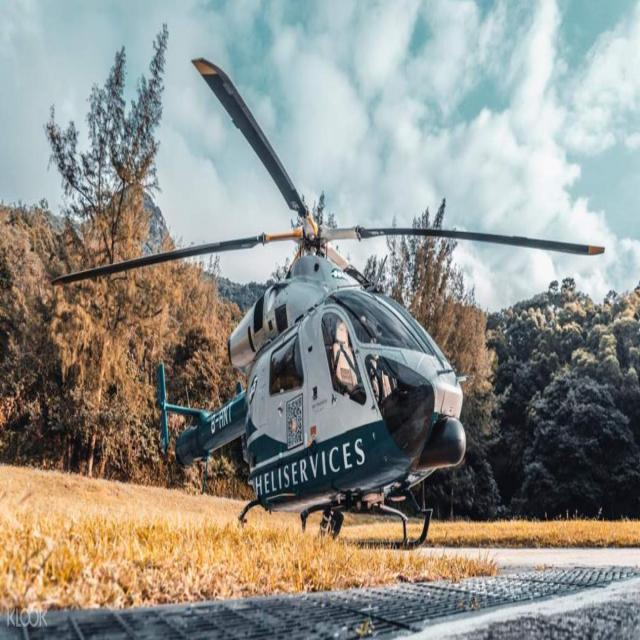helicopter: (47, 52, 615, 554)
